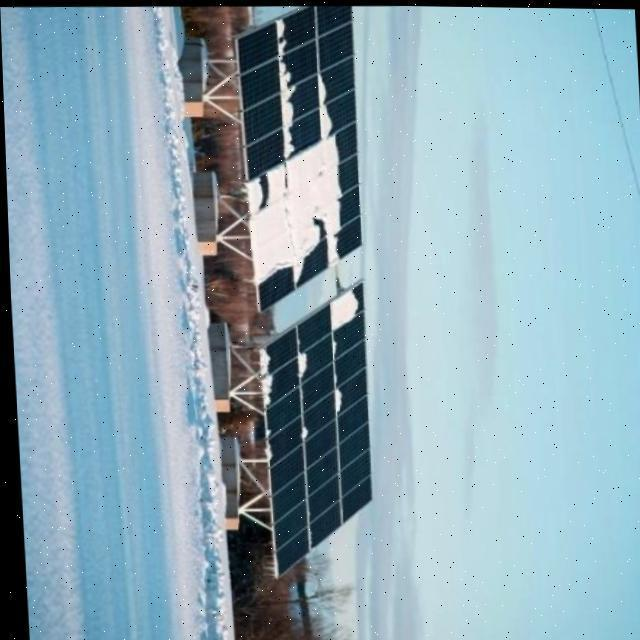Anomaly Solar Panel: (235, 4, 368, 309), (252, 280, 378, 577)
Snow: (246, 133, 344, 287), (274, 60, 301, 154), (322, 288, 361, 330), (256, 348, 275, 406), (316, 72, 331, 138), (275, 20, 289, 60), (293, 348, 307, 378), (329, 388, 341, 412), (298, 425, 305, 438)
